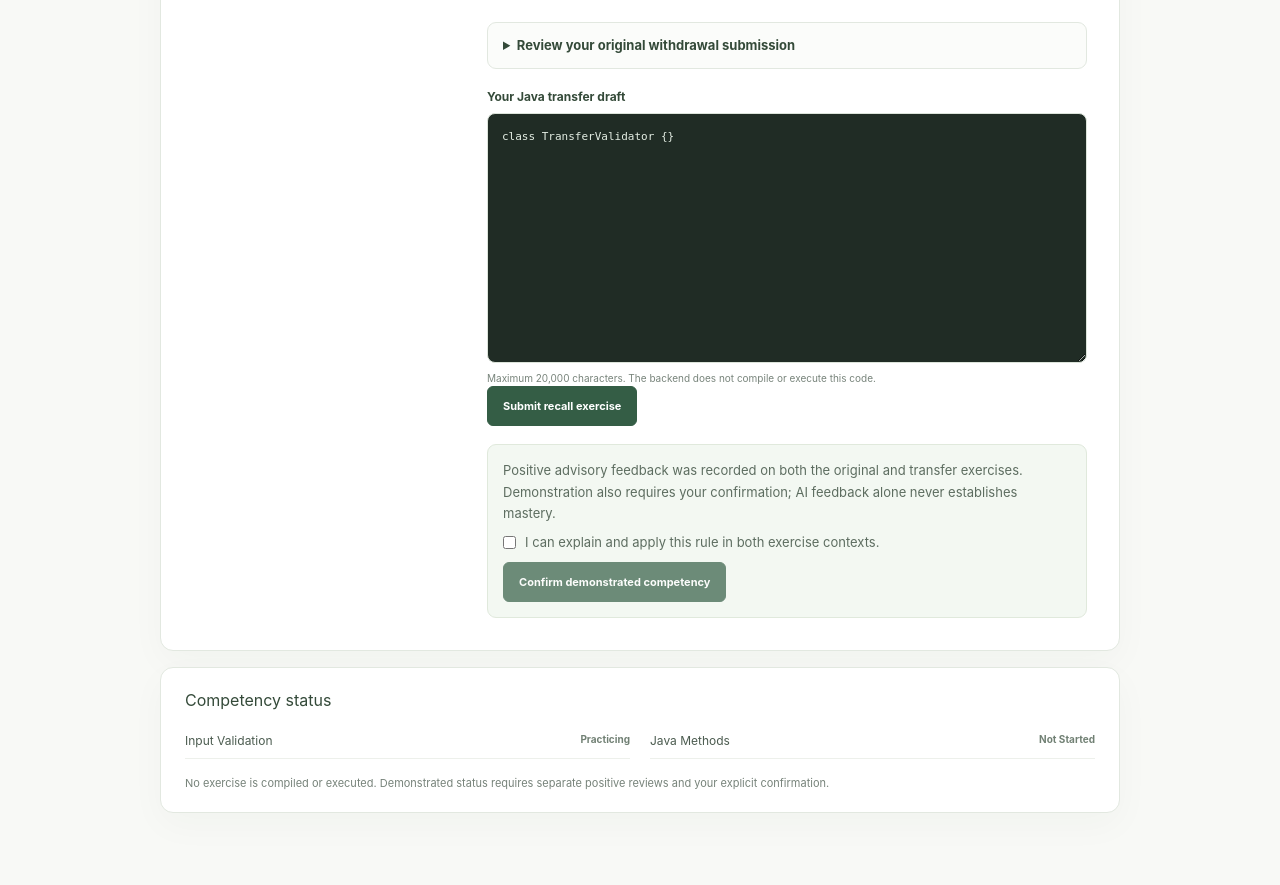
Test: Learning Recall › requires learner confirmation after positive feedback on both exercises
The image size is (1280, 885).
(page scrolled)
Expected: the button "Confirm demonstrated competency" is disabled, [503,562,726,602]
Click the checkbox labelled "I can explain and apply this rule in both exercise contexts." at x=510, y=543, box [503,536,516,549]
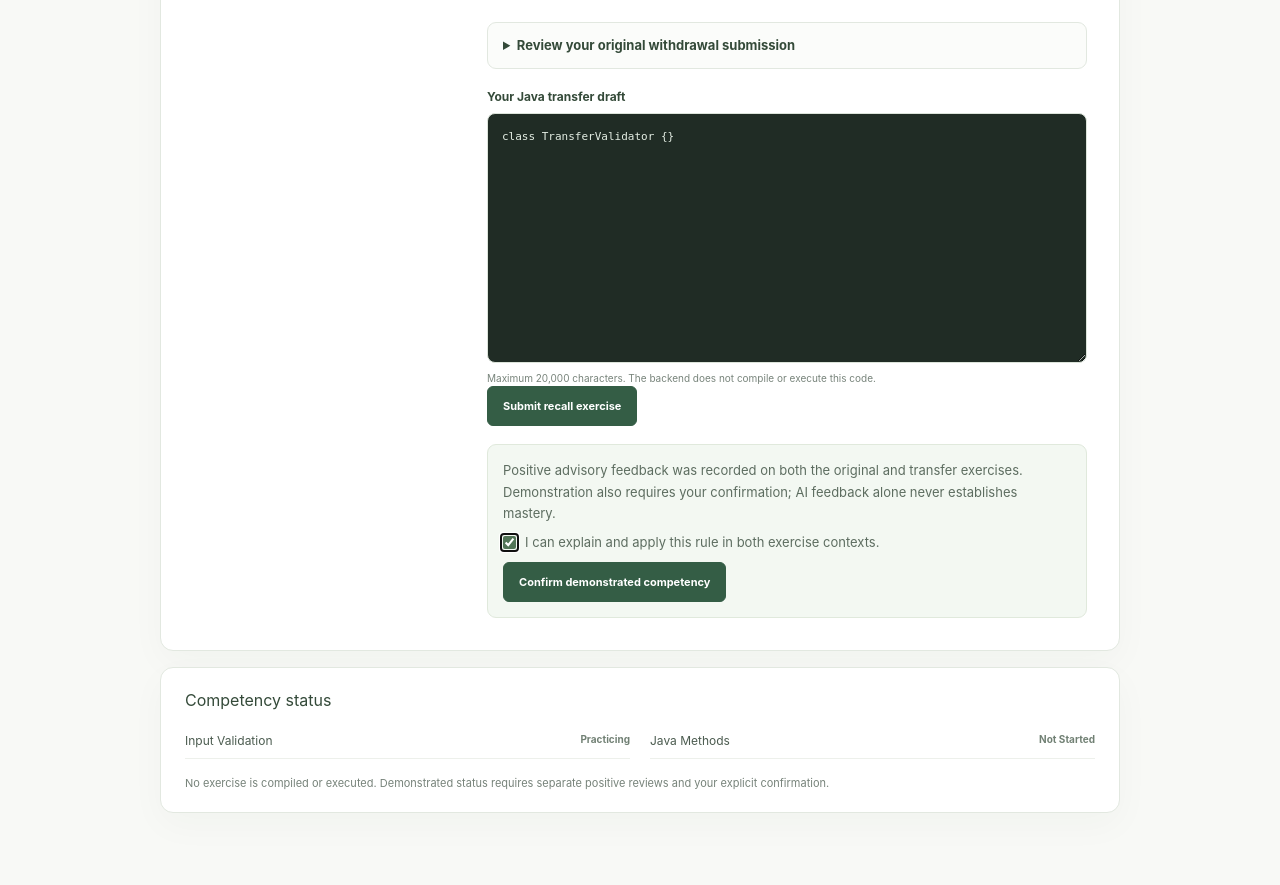
Click the button "Confirm demonstrated competency" at x=615, y=582, box [503,562,726,602]
(page scrolled)
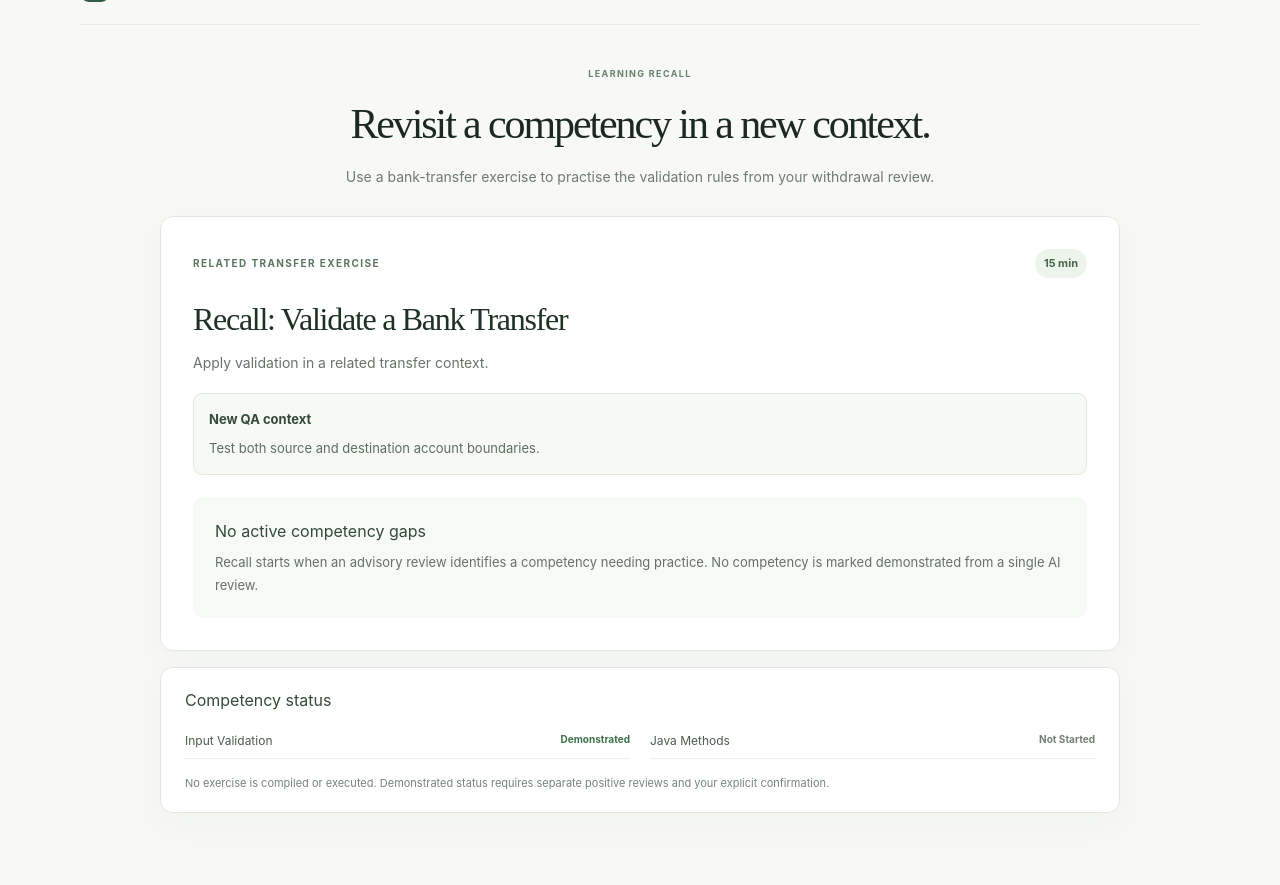
Result: the text "Demonstrated" is shown at [560,732,630,750]
